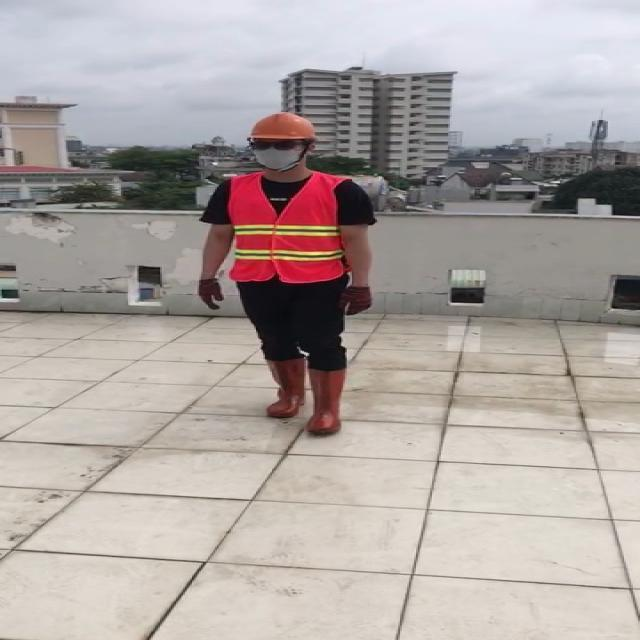gloves: (335, 286, 372, 316), (196, 279, 224, 311)
goggles: (250, 141, 315, 151)
helmet: (245, 111, 322, 142)
safety_vest: (231, 173, 349, 283)
